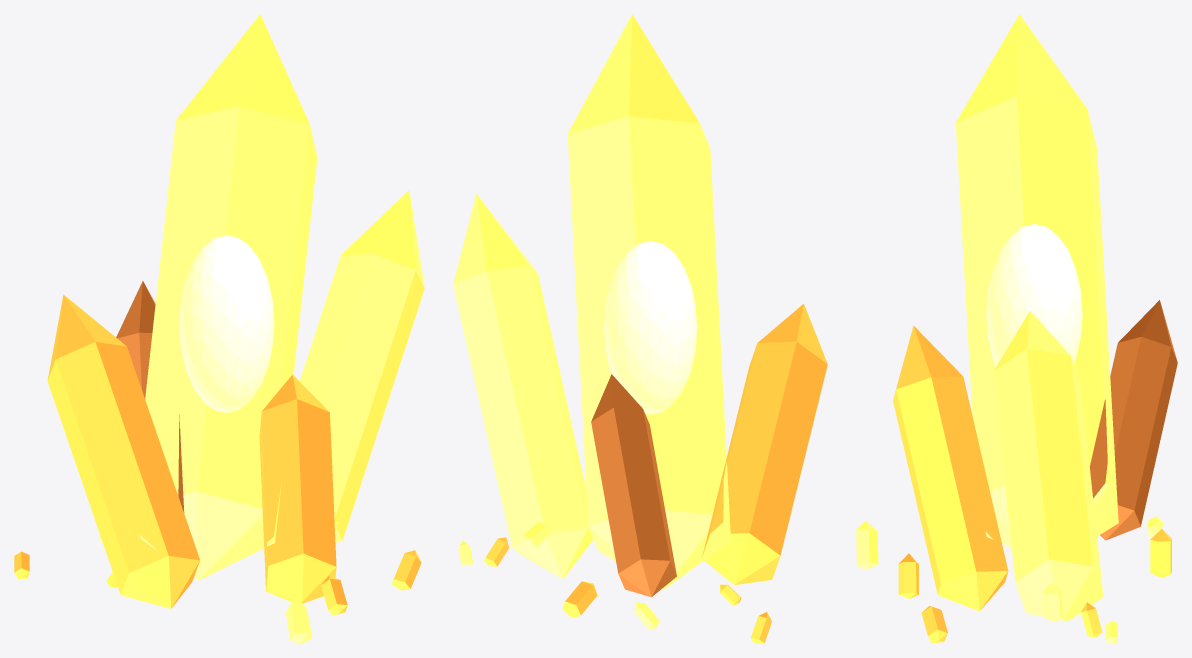
The model's file is Midgard_Whisper_Amber_Crystal_V1_YUP.glb.
3 renders of one model, left to right at view 1: azimuth 30°, elevation 25°; view 2: azimuth 150°, elevation 25°; view 3: azimuth 270°, elevation 25°, orthographic. The views are drawn at different scales.
Parts seen in each view (by area): view 1: Amber_Main, Amber_Left, Amber_Right, Amber_Front, Amber_Core, Amber_Back, Amber_Shard_6, Amber_Shard_5, Amber_Shard_8; view 2: Amber_Main, Amber_Right, Amber_Left, Amber_Core, Amber_Back, Amber_Shard_2; view 3: Amber_Main, Amber_Right, Amber_Front, Amber_Back, Amber_Core, Amber_Shard_6, Amber_Shard_2, Amber_Shard_8, Amber_Shard_5, Amber_Shard_9, Amber_Shard_4.
Part boxes in pixels (x1,y1,x2,y2): Amber_Main: (140,14,317,580); Amber_Left: (47,294,200,608); Amber_Right: (299,190,424,542); Amber_Front: (259,374,336,603); Amber_Core: (179,235,274,412); Amber_Back: (116,281,184,512); Amber_Shard_6: (285,600,312,643); Amber_Shard_5: (392,550,421,590); Amber_Shard_8: (321,576,347,615); Amber_Main: (567,14,730,590); Amber_Right: (453,194,593,579); Amber_Left: (702,304,827,584); Amber_Core: (604,241,697,414); Amber_Back: (591,374,676,597); Amber_Shard_2: (562,581,597,617); Amber_Main: (955,14,1118,547); Amber_Right: (993,311,1103,620); Amber_Front: (893,325,1008,611); Amber_Back: (1090,300,1177,540); Amber_Core: (986,224,1082,366); Amber_Shard_6: (856,521,878,569); Amber_Shard_2: (1150,529,1171,577); Amber_Shard_8: (898,553,918,598); Amber_Shard_5: (921,606,947,643); Amber_Shard_9: (1043,582,1062,621); Amber_Shard_4: (1081,602,1102,637).
Size of the model in its own units: 3.11 by 4.64 by 2.3.
